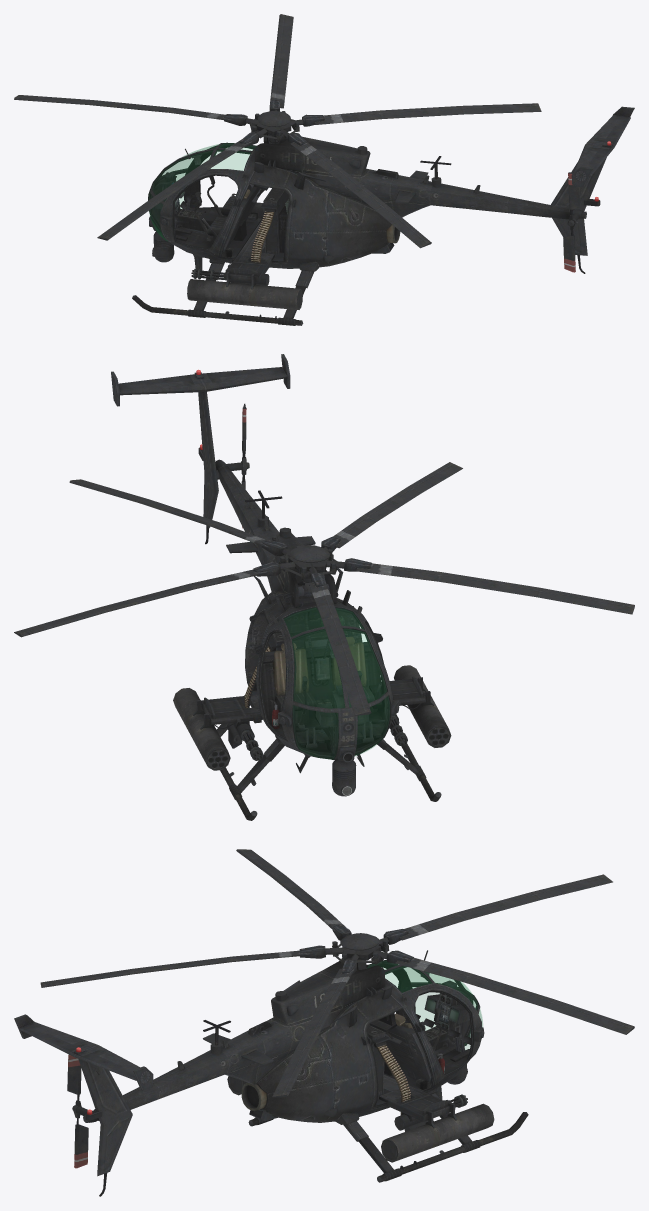
File: littlebird.glb
3 views of the same model, one above another, from view 1: azimuth 30°, elevation 25°; view 2: azimuth 150°, elevation 25°; view 3: azimuth 270°, elevation 25° (orthographic). The views are drawn at different scales.
Visible parts, largest first — view 1: Object_2, Object_3; view 2: Object_2, Object_3; view 3: Object_2, Object_3.
Boxes of the visible parts, box(x1,y1,x2,y2) form: Object_2: box(14, 14, 634, 325); Object_3: box(149, 143, 255, 240); Object_2: box(14, 354, 634, 820); Object_3: box(284, 608, 389, 759); Object_2: box(14, 849, 634, 1196); Object_3: box(368, 961, 482, 1049).
Bounding box in the file's own units: 2.5 × 0.9336 × 2.37.
2 materials, 2 textured.
